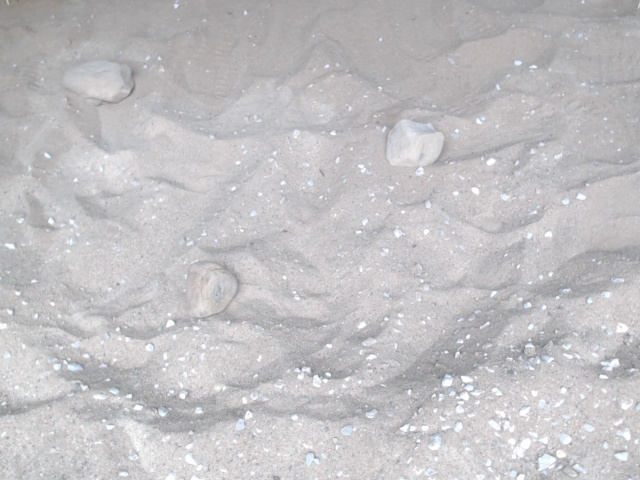rock: (57, 56, 139, 108), (181, 256, 241, 323), (382, 116, 447, 171)
